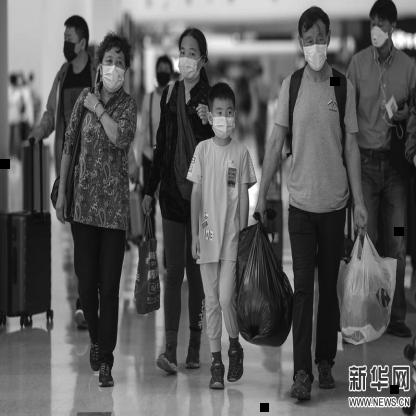mask: (93, 28, 134, 98), (296, 3, 333, 72), (205, 80, 239, 144), (174, 23, 207, 84), (364, 0, 397, 52), (58, 12, 89, 65), (152, 51, 174, 90)
